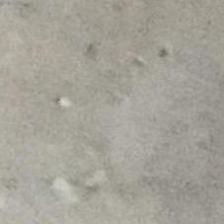Non_Crack: (15, 12, 206, 189)
